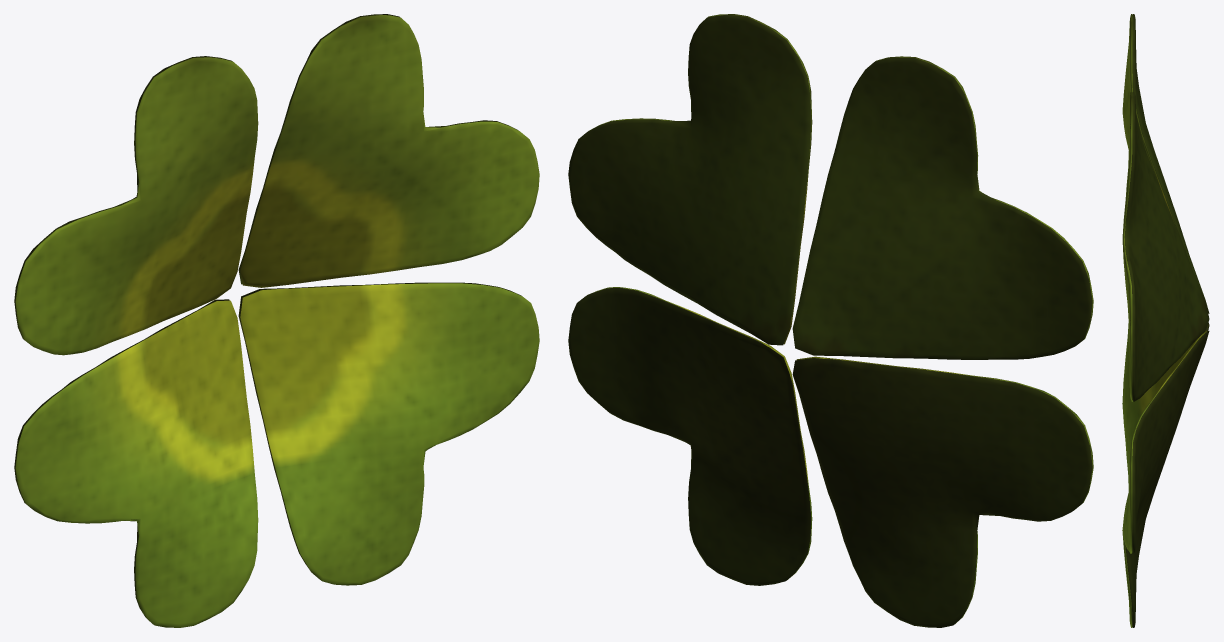
File: end_clover.fbx
3 views of the same model, side by side, from view 1: azimuth 30°, elevation 25°; view 2: azimuth 150°, elevation 25°; view 3: azimuth 270°, elevation 25° (orthographic). The views are drawn at different scales.
Visible parts, largest first — view 1: Mesh_Acc; view 2: Mesh_Acc; view 3: Mesh_Acc.
Part boxes in pixels (<box>): Mesh_Acc: <box>14,14,539,627</box>; Mesh_Acc: <box>568,14,1093,627</box>; Mesh_Acc: <box>1122,14,1209,627</box>.
Size of the model in its own units: 4.26 by 4.41 by 0.6668.
